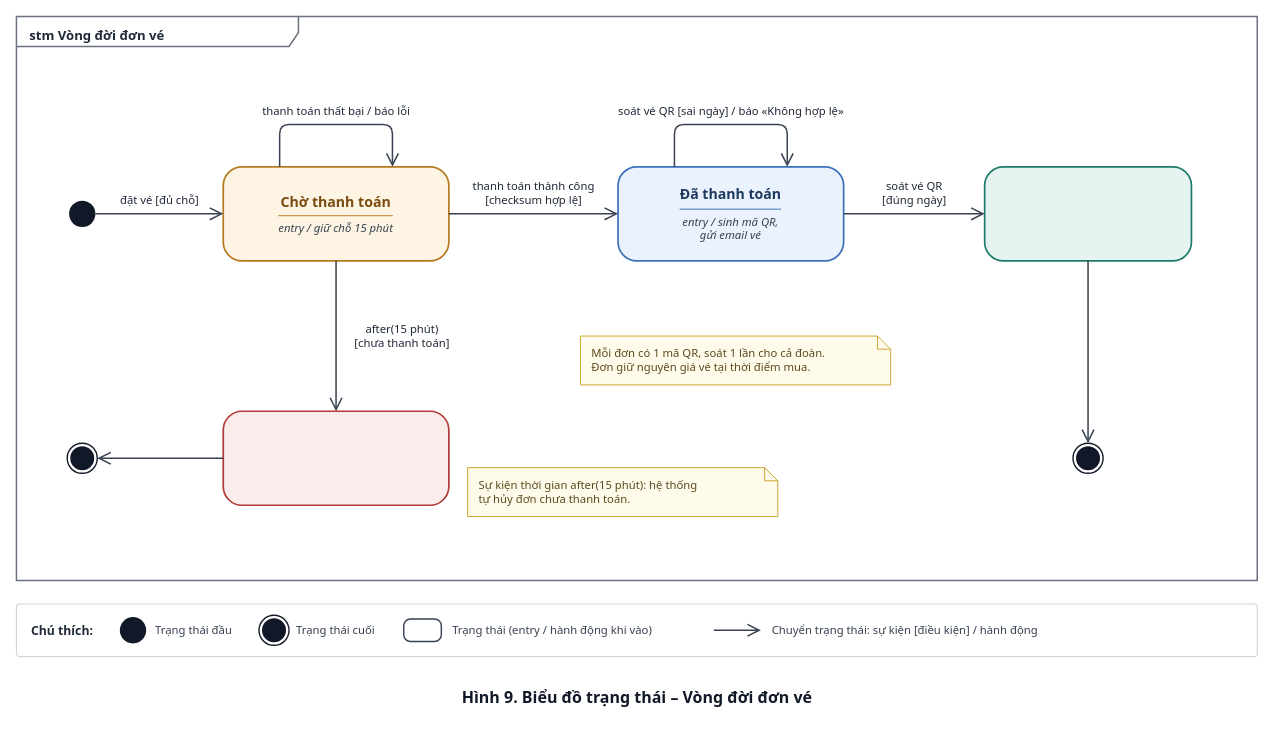
The diagram is 1275 pixels wide and 729 high, and some of its shapes have lost their labels. The shapes that lost their labels are listed below. From the top down, each one's centre as x and y in pixels, then its label:
At [1087,213]: "Đã sử dụng entry / ghi giờ vào cổng".
At [335,458]: "Đã hủy entry / trả lại chỗ".
